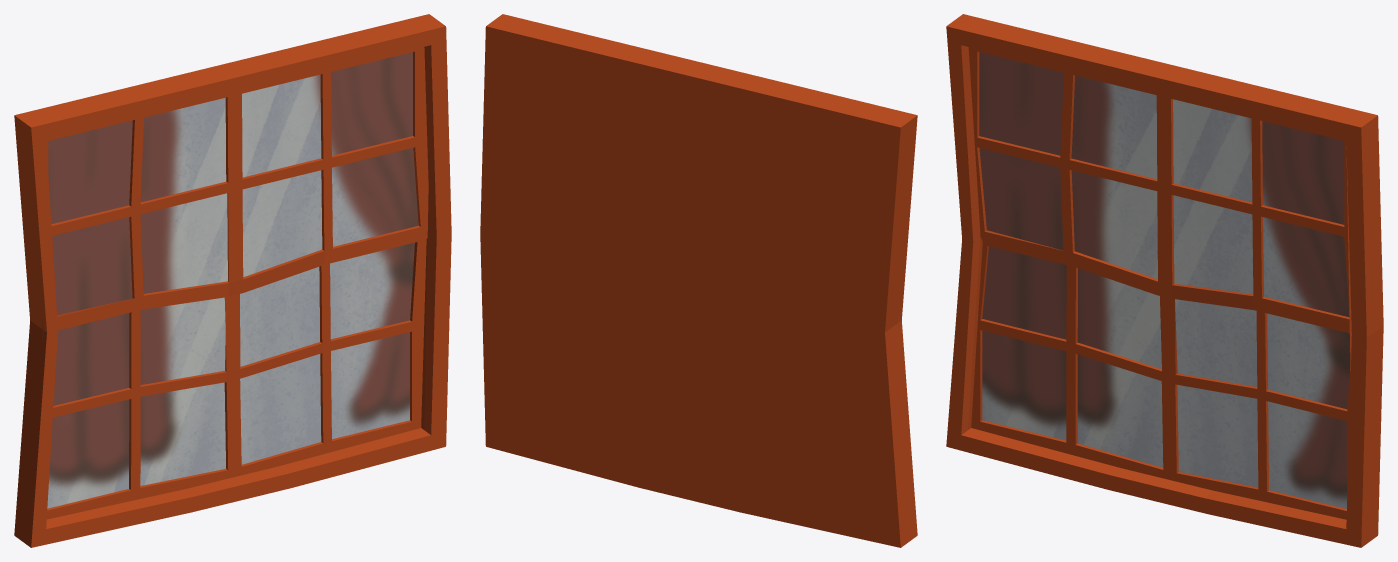
The model's file is Window5.fbx.
3 views of the same model, side by side, from view 1: azimuth 30°, elevation 25°; view 2: azimuth 150°, elevation 25°; view 3: azimuth 330°, elevation 25° (orthographic).
Parts seen in each view (by area): view 1: Cube.075; view 2: Cube.075; view 3: Cube.075.
Part boxes in pixels (bbox=[...]): Cube.075: bbox=[14, 14, 451, 547]; Cube.075: bbox=[480, 14, 917, 547]; Cube.075: bbox=[946, 14, 1383, 547].
Bounding box in the file's own units: 175 × 169 × 12.18.
